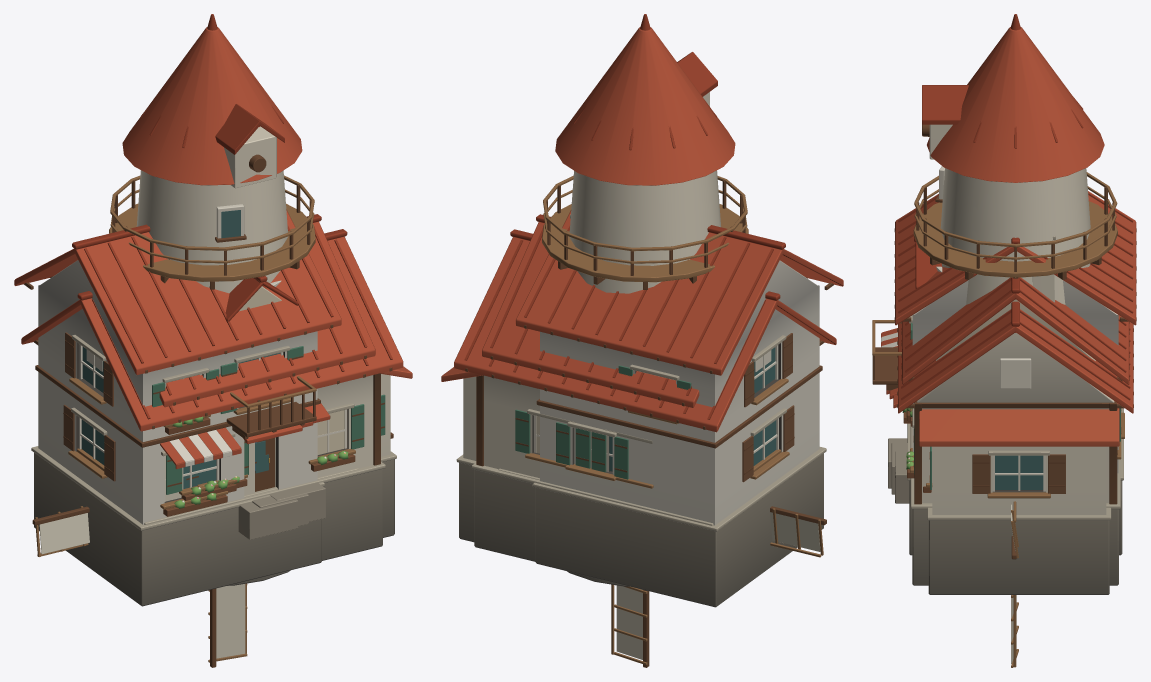
The model's file is hillside-village.glb.
3 renders of one model, left to right at view 1: azimuth 30°, elevation 25°; view 2: azimuth 150°, elevation 25°; view 3: azimuth 270°, elevation 25°, orthographic.
Parts seen in each view (by area): view 1: Ghibli_Cottage_B, Ghibli_Windmill_Tower, Ghibli_Cottage_A, Ghibli_Cottage_C, Ghibli_Windmill_Blades; view 2: Ghibli_Cottage_B, Ghibli_Windmill_Tower, Ghibli_Cottage_A, Ghibli_Cottage_C, Ghibli_Windmill_Blades; view 3: Ghibli_Cottage_B, Ghibli_Windmill_Tower, Ghibli_Cottage_A, Ghibli_Cottage_C, Ghibli_Windmill_Blades.
Part boxes in pixels (left/top/right/bottom): Ghibli_Cottage_B: left=14, top=209, right=412, bottom=606; Ghibli_Windmill_Tower: left=109, top=14, right=315, bottom=585; Ghibli_Cottage_A: left=21, top=229, right=403, bottom=560; Ghibli_Cottage_C: left=159, top=214, right=375, bottom=521; Ghibli_Windmill_Blades: left=32, top=432, right=393, bottom=667; Ghibli_Cottage_B: left=441, top=210, right=843, bottom=607; Ghibli_Windmill_Tower: left=542, top=14, right=748, bottom=586; Ghibli_Cottage_A: left=454, top=229, right=836, bottom=561; Ghibli_Cottage_C: left=482, top=214, right=699, bottom=480; Ghibli_Windmill_Blades: left=611, top=506, right=826, bottom=667; Ghibli_Cottage_B: left=872, top=191, right=1136, bottom=594; Ghibli_Windmill_Tower: left=913, top=14, right=1117, bottom=304; Ghibli_Cottage_A: left=889, top=274, right=1133, bottom=585; Ghibli_Cottage_C: left=893, top=235, right=1129, bottom=503; Ghibli_Windmill_Blades: left=1011, top=501, right=1018, bottom=667.
Size of the model in its own units: 11.5 by 19.94 by 7.46.
